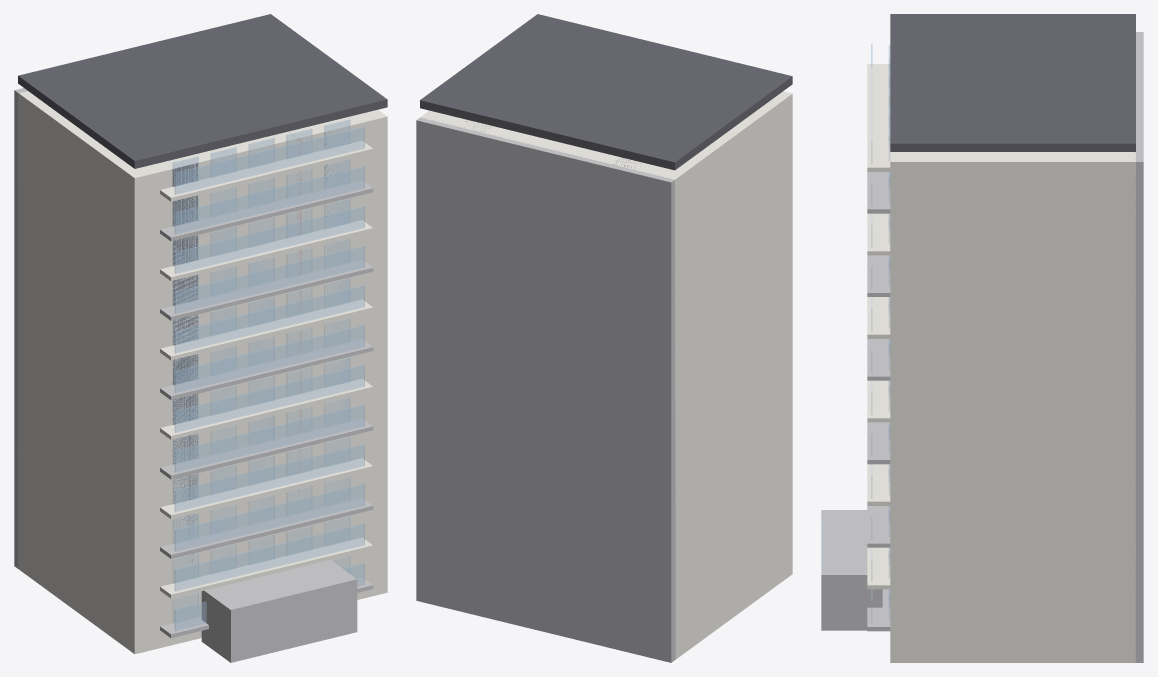
File: apartment.glb
3 views of the same model, side by side, from view 1: azimuth 30°, elevation 25°; view 2: azimuth 150°, elevation 25°; view 3: azimuth 270°, elevation 25° (orthographic). The views are drawn at different scales.
Visible parts, largest first — view 1: MainBlock, Roof, Lobby, VerticalAccent, GlassRail.001, GlassRail.004, GlassRail.007, GlassRail.009, GlassRail.010, GlassRail.003, GlassRail.006, GlassRail.002 (+40 smaller); view 2: SidePanel, MainBlock, Roof; view 3: MainBlock, Roof, Lobby, SidePanel, Balcony.011, Balcony.004, Balcony.001, Balcony.005, Balcony.009, Balcony.002, Balcony.003, Balcony.006 (+4 smaller).
Boxes of the visible parts, box(x1,y1,x2,y2) form: MainBlock: box(18, 91, 387, 654); Roof: box(18, 14, 387, 168); Lobby: box(201, 560, 357, 662); VerticalAccent: box(172, 163, 197, 561); GlassRail.001: box(175, 523, 364, 591); GlassRail.004: box(175, 404, 364, 472); GlassRail.007: box(175, 285, 364, 353); GlassRail.009: box(175, 206, 364, 273); GlassRail.010: box(175, 166, 364, 234); GlassRail.003: box(175, 444, 364, 511); GlassRail.006: box(175, 325, 364, 392); GlassRail.002: box(175, 484, 364, 551); SidePanel: box(416, 117, 675, 662); MainBlock: box(420, 91, 792, 659); Roof: box(420, 14, 792, 170); MainBlock: box(890, 152, 1135, 662); Roof: box(890, 14, 1135, 151); Lobby: box(821, 510, 882, 630); SidePanel: box(1134, 32, 1143, 662); Balcony.011: box(867, 64, 890, 171); Balcony.004: box(867, 422, 890, 464); Balcony.001: box(867, 547, 890, 589); Balcony.005: box(867, 380, 890, 422); Balcony.009: box(867, 213, 890, 255); Balcony.002: box(867, 506, 890, 547); Balcony.003: box(867, 464, 890, 505); Balcony.006: box(867, 339, 890, 380).
Bounding box in the file's own units: 20 × 37.3 × 21.
